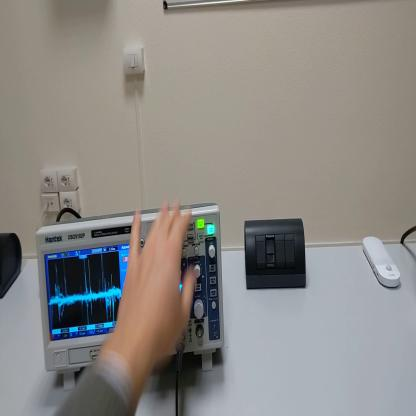hand: (113, 200, 199, 369)
oscilloscope: (34, 199, 226, 392)
socket: (1, 231, 24, 303)
